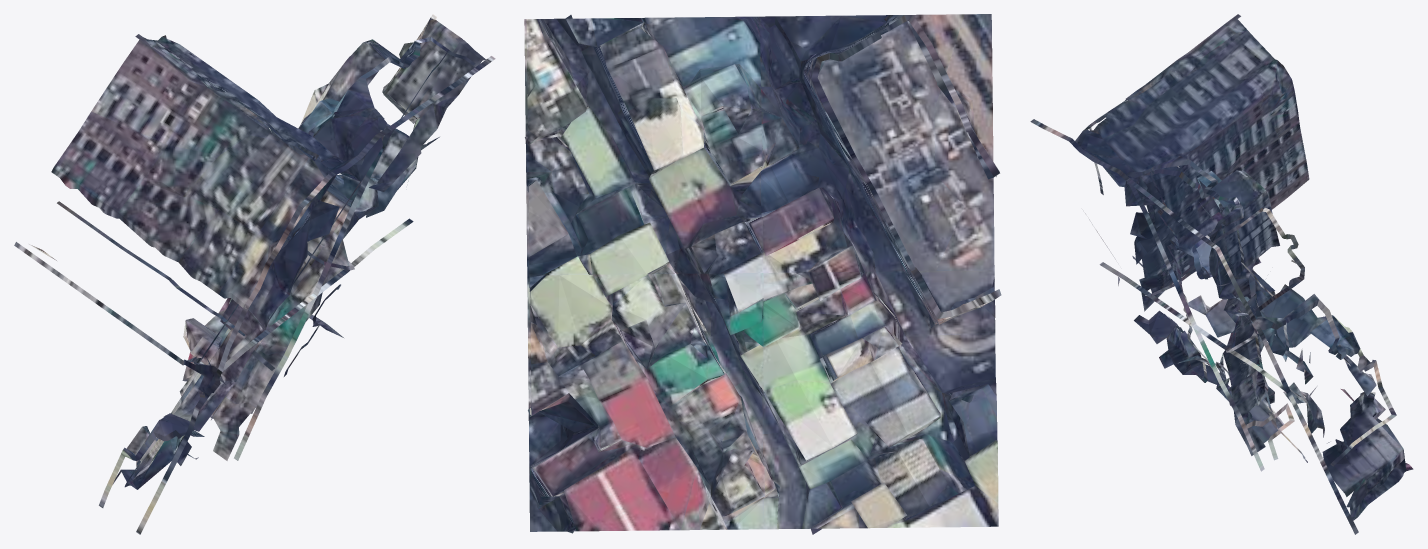
3 renders of one model, left to right at view 1: azimuth 30°, elevation 25°; view 2: azimuth 150°, elevation 25°; view 3: azimuth 270°, elevation 25°, orthographic. The views are drawn at different scales.
Size of the model in its own units: 88.72 by 87.78 by 74.8.
Materials: 2 (2 with a texture image).
